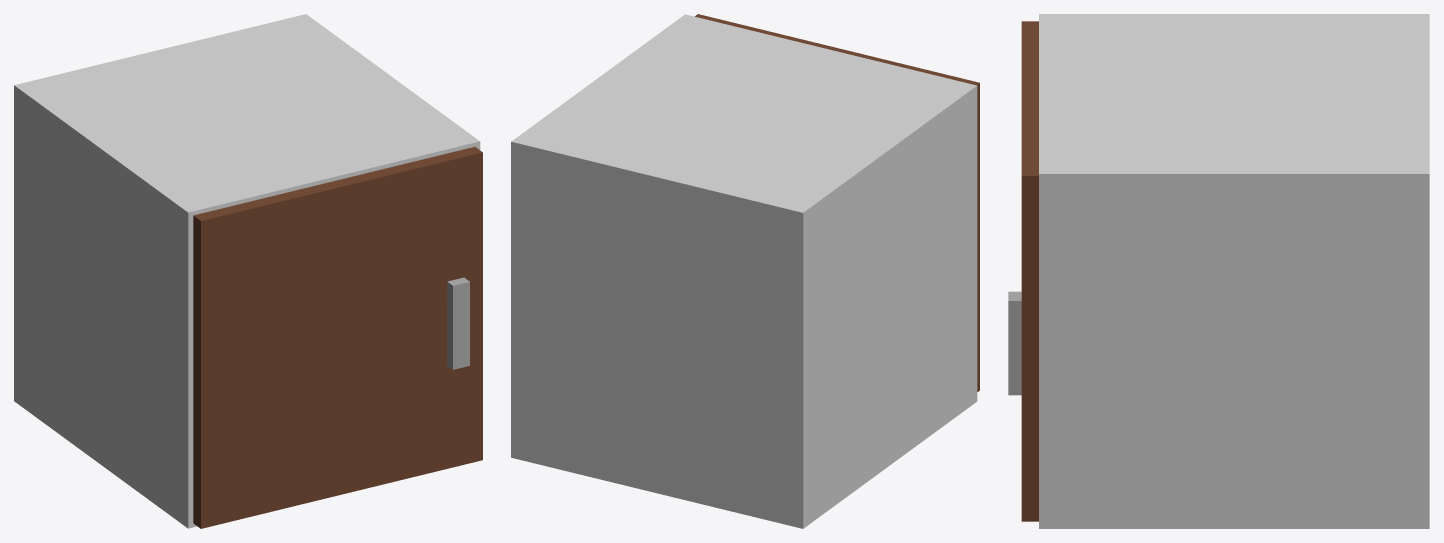
Rendered from Wall_Cupboard_NewProp.fbx.
3 renders of one model, left to right at view 1: azimuth 30°, elevation 25°; view 2: azimuth 150°, elevation 25°; view 3: azimuth 270°, elevation 25°, orthographic. The views are drawn at different scales.
Visible parts, largest first — view 1: Cube; view 2: Cube; view 3: Cube.
Boxes of the visible parts, x1=… form: Cube: x1=14, y1=14, x2=482, y2=528; Cube: x1=511, y1=14, x2=979, y2=528; Cube: x1=1008, y1=14, x2=1429, y2=528.
Size of the model in its own units: 205 by 212 by 228.
